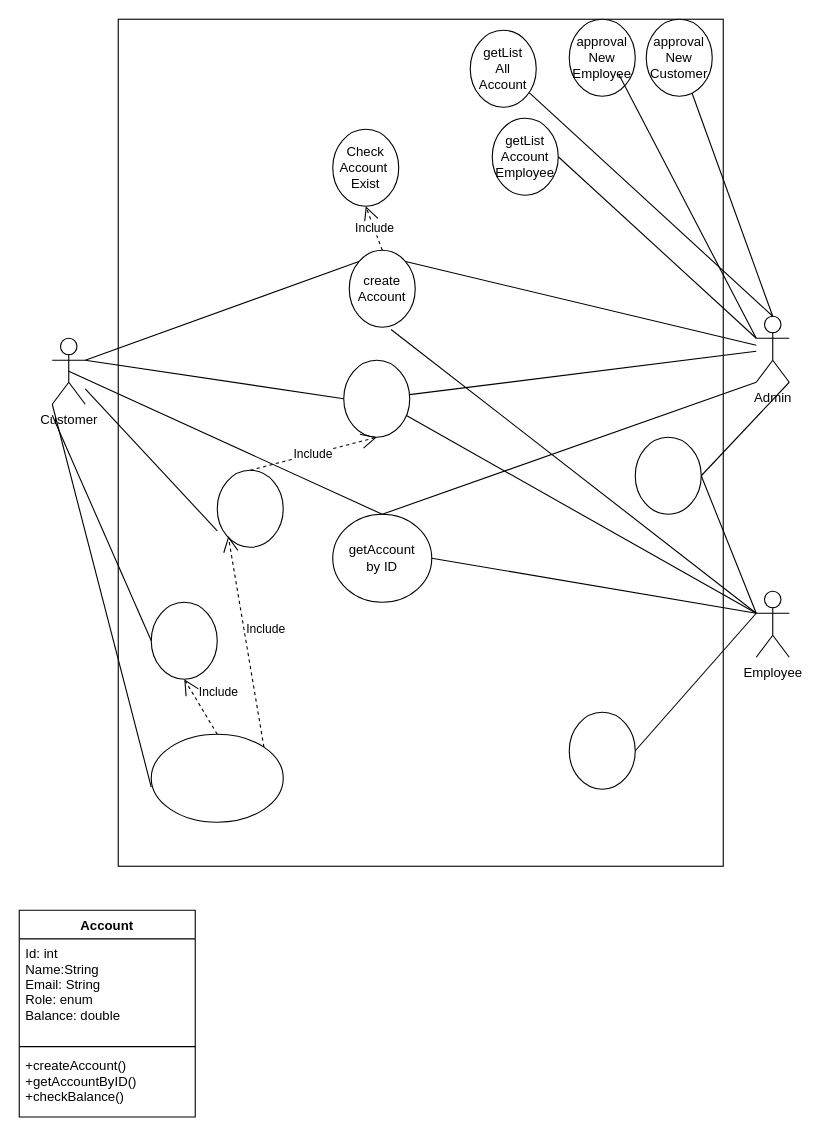
Image size: 821x1140. Some labels were removed from this diagram. The box of each missing label's shape, as (x1, y1, x2, y2) in pixels:
check Balance: (343, 359, 410, 437)
getList Account Customer: (634, 436, 701, 514)
Request New Customer: (568, 711, 635, 789)
sendMoney: (150, 601, 217, 679)
transfer: (150, 733, 283, 822)
withdrawal: (216, 469, 283, 547)
